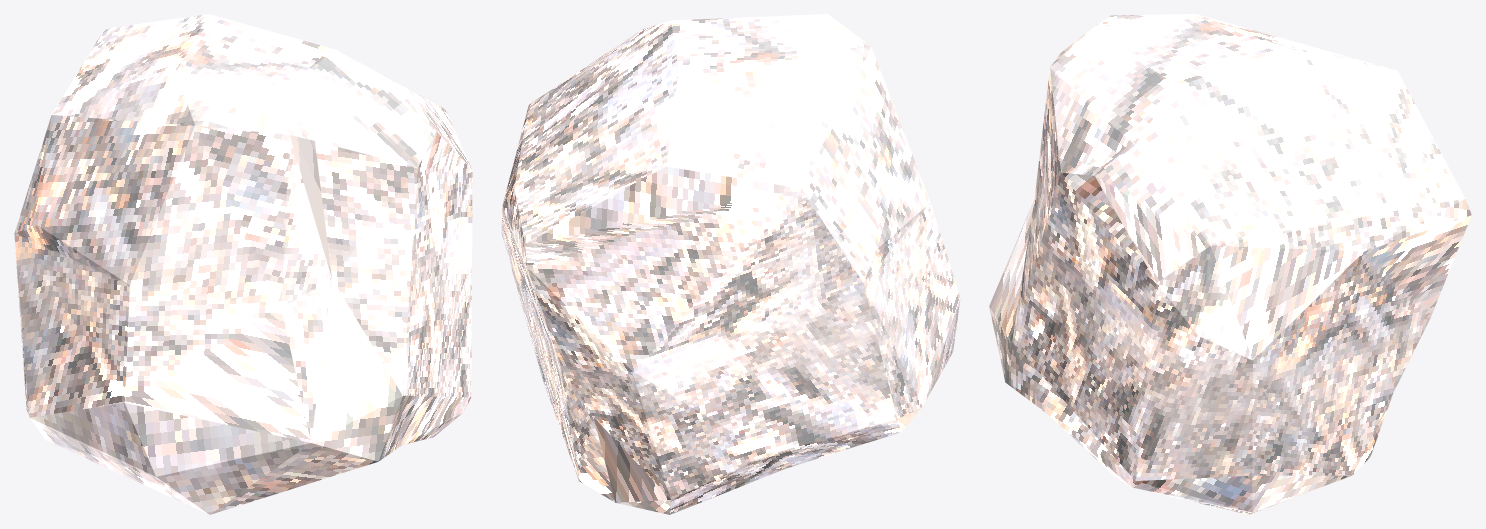
The model's file is bulto 1.glb.
The picture shows the model from 3 angles, left to right: view 1: azimuth 30°, elevation 25°; view 2: azimuth 150°, elevation 25°; view 3: azimuth 270°, elevation 25°; orthographic projection. The views are drawn at different scales.
Visible parts, largest first — view 1: bulto; view 2: bulto; view 3: bulto.
Boxes of the visible parts, x1,y1,x2,y2 form: bulto: (14, 14, 472, 514); bulto: (501, 14, 960, 514); bulto: (989, 14, 1471, 514).
Size of the model in its own units: 0.8223 by 0.8311 by 0.8439.
